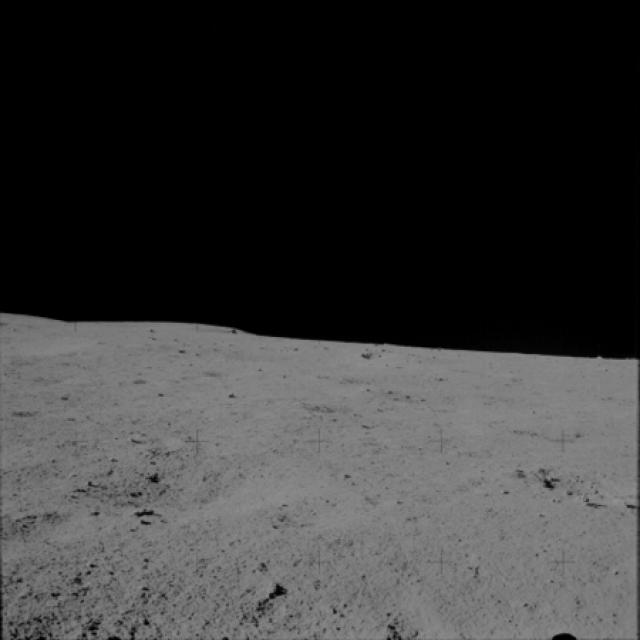crater: (67, 451, 329, 530), (511, 457, 638, 516), (319, 364, 427, 391), (296, 392, 370, 421)
rock: (251, 573, 291, 600)
